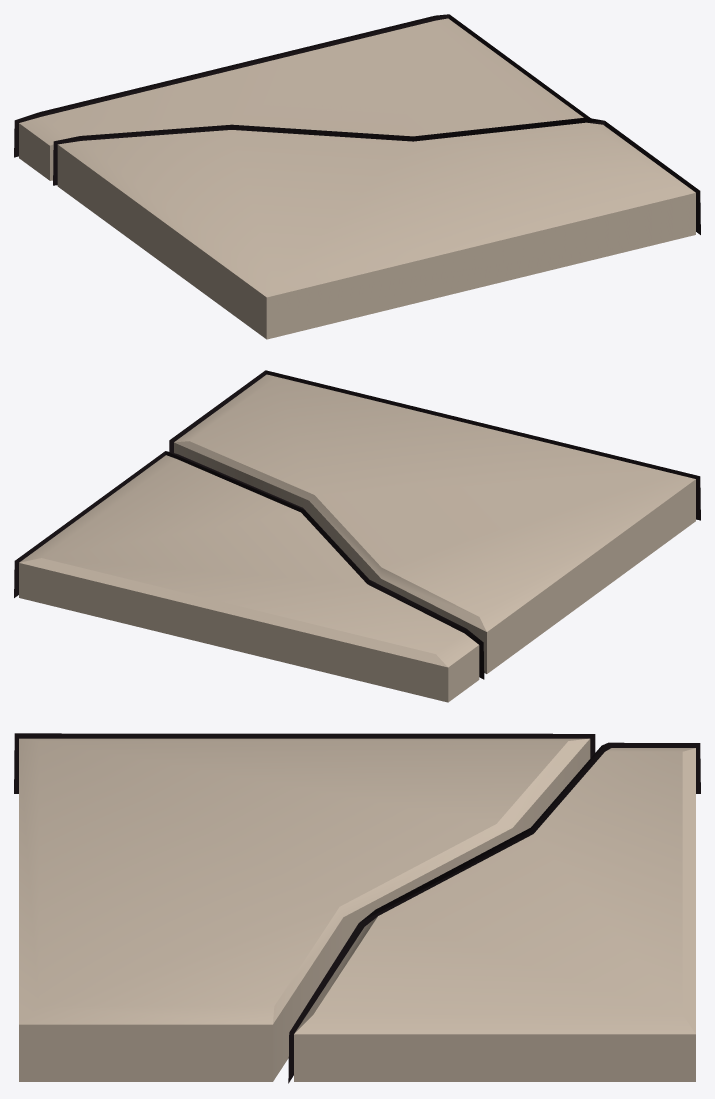
The model's file is SM_RoadTile_05.fbx.
3 renders of one model, top to bottom at view 1: azimuth 30°, elevation 25°; view 2: azimuth 150°, elevation 25°; view 3: azimuth 270°, elevation 25°, orthographic. The views are drawn at different scales.
Parts seen in each view (by area): view 1: SM_RoadTile_05; view 2: SM_RoadTile_05; view 3: SM_RoadTile_05.
Part boxes in pixels (x1,y1,x2,y2): SM_RoadTile_05: (14,14,700,339); SM_RoadTile_05: (14,370,700,702); SM_RoadTile_05: (14,733,700,1083).
Bounding box in the file's own units: 0.9762 × 0.1118 × 0.9741.
